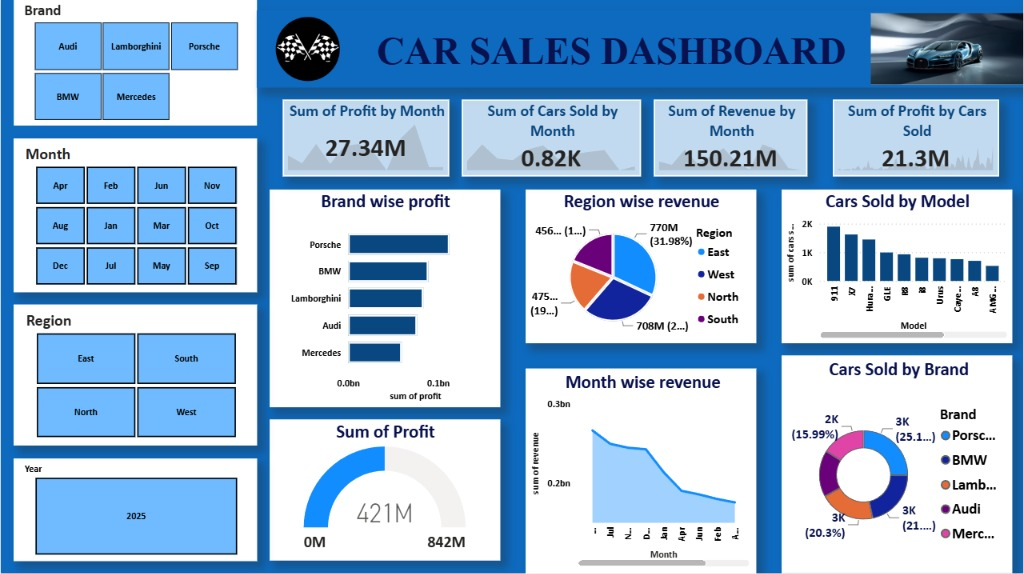

What the dashboard file says about the page in this screenshot:
{"tool":"powerbi","page":{"name":"Page 1","canvas":[1280,720],"ordinal":0},"visuals":[{"type":"columnChart","title":" Cars Sold by Model","fields":{"Category":["Sheet1.Model"],"Y":["Sum(Sheet1.Cars Sold)"]},"box":[976,240,288,192],"z":0},{"type":"donutChart","title":"Cars Sold by Brand","fields":{"Category":["Sheet1.Brand"],"Y":["Sum(Sheet1.Cars Sold)"]},"box":[976,448,288,272],"z":1000},{"type":"pieChart","title":"Region wise revenue","fields":{"Category":["Sheet1.Region"],"Y":["Sum(Sheet1.Revenue)"]},"box":[656,240,288,192],"z":2000},{"type":"stackedAreaChart","title":"Month wise revenue","fields":{"Category":["Sheet1.Month"],"Y":["Sum(Sheet1.Revenue)"]},"box":[656,464,288,256],"z":3000},{"type":"clusteredBarChart","title":"Brand wise profit","fields":{"Category":["Sheet1.Brand"],"Y":["Sum(Sheet1.Profit)"]},"box":[336,240,288,272],"z":4000},{"type":"gauge","fields":{"Y":["Sum(Sheet1.Profit)"]},"box":[336,528,288,176],"z":5000},{"type":"slicer","fields":{"Values":["Sheet1.Month"]},"box":[16,176,304,192],"z":6000},{"type":"kpi","fields":{"TrendLine":["Sheet1.Month"],"Indicator":["Sum(Sheet1.Profit)"]},"box":[352,128,208,96],"z":7000},{"type":"slicer","fields":{"Values":["Sheet1.Year"]},"box":[16,576,304,128],"z":8000},{"type":"kpi","fields":{"Indicator":["Sum(Sheet1.Cars Sold)"],"TrendLine":["Sheet1.Month"]},"box":[576,128,224,96],"z":9000},{"type":"kpi","fields":{"TrendLine":["Sheet1.Month"],"Indicator":["Sum(Sheet1.Revenue)"]},"box":[816,128,192,96],"z":10000},{"type":"kpi","fields":{"Indicator":["Sum(Sheet1.Profit)"],"TrendLine":["Sheet1.Cars Sold"]},"box":[1040,128,208,96],"z":11000},{"type":"slicer","fields":{"Values":["Sheet1.Region"]},"box":[16,384,304,176],"z":12000},{"type":"slicer","fields":{"Values":["Sheet1.Brand"]},"box":[16,0,304,160],"z":13000},{"type":"textbox","box":[320,16,960,96],"z":14000},{"type":"image","box":[304,16,160,96],"z":15000},{"type":"image","box":[1088,16,192,96],"z":16000}]}

Visuals, with their boxes in screenshot pixels (x1, y1, x2, y2), scaled from the page's 1280x720 canvas onto the 1024x574 screenshot:
" Cars Sold by Model" columnChart: left=781, top=191, right=1011, bottom=344
"Cars Sold by Brand" donutChart: left=781, top=357, right=1011, bottom=573
"Region wise revenue" pieChart: left=525, top=191, right=755, bottom=344
"Month wise revenue" stackedAreaChart: left=525, top=370, right=755, bottom=573
"Brand wise profit" clusteredBarChart: left=269, top=191, right=499, bottom=408
gauge - Sum(Sheet1.Profit): left=269, top=421, right=499, bottom=561
slicer - Sheet1.Month: left=13, top=140, right=256, bottom=293
kpi - Sheet1.Month x Sum(Sheet1.Profit): left=282, top=102, right=448, bottom=179
slicer - Sheet1.Year: left=13, top=459, right=256, bottom=561
kpi - Sum(Sheet1.Cars Sold) x Sheet1.Month: left=461, top=102, right=640, bottom=179
kpi - Sheet1.Month x Sum(Sheet1.Revenue): left=653, top=102, right=806, bottom=179
kpi - Sum(Sheet1.Profit) x Sheet1.Cars Sold: left=832, top=102, right=998, bottom=179
slicer - Sheet1.Region: left=13, top=306, right=256, bottom=446
slicer - Sheet1.Brand: left=13, top=0, right=256, bottom=128
textbox: left=256, top=13, right=1023, bottom=89
image: left=243, top=13, right=371, bottom=89
image: left=870, top=13, right=1023, bottom=89
